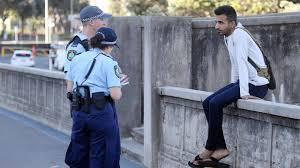Person: (188, 5, 271, 168), (68, 28, 129, 167)
